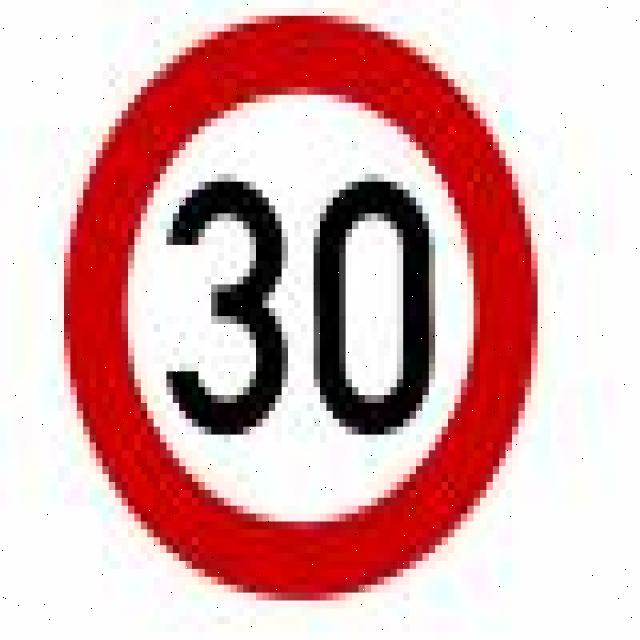speed_limit_30: (160, 175, 444, 443)
